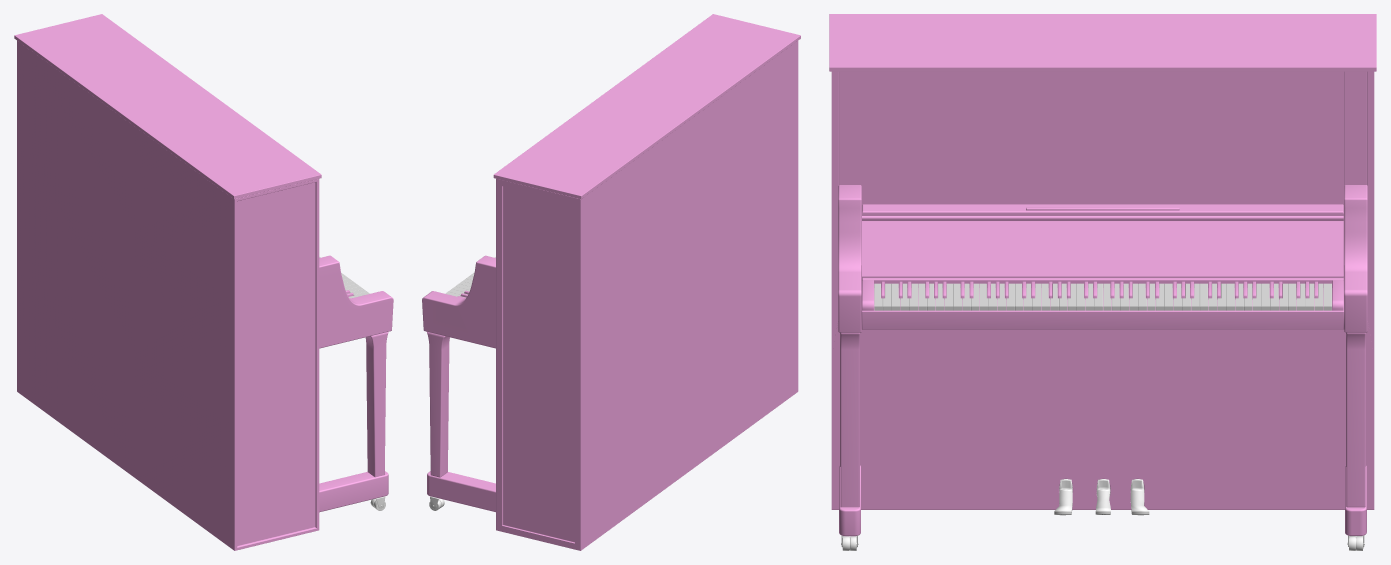
File: piano.glb
The picture shows the model from 3 angles, left to right: view 1: azimuth 30°, elevation 25°; view 2: azimuth 150°, elevation 25°; view 3: azimuth 270°, elevation 25°; orthographic projection. The views are drawn at different scales.
Visible parts, largest first — view 1: Cube.018, Cube.010, Cube.011, Cube.012; view 2: Cube.018, Cube.001, Cube.002, Cube.003; view 3: Cube.018, Cube.017, Cube.006, Cube.005, Cube.016, Cube.001, Cube.010, Cube.002, Cube.011, Cube.009, Cube.003, Cube.012.
Boxes of the visible parts, bbox=[...] form: Cube.018: bbox=[14, 14, 321, 550]; Cube.010: bbox=[319, 255, 393, 348]; Cube.011: bbox=[365, 331, 388, 477]; Cube.012: bbox=[319, 471, 388, 512]; Cube.018: bbox=[493, 14, 800, 550]; Cube.001: bbox=[422, 255, 495, 348]; Cube.002: bbox=[427, 332, 449, 477]; Cube.003: bbox=[427, 471, 495, 512]; Cube.018: bbox=[829, 14, 1376, 509]; Cube.017: bbox=[862, 216, 1343, 277]; Cube.006: bbox=[874, 283, 1331, 310]; Cube.005: bbox=[861, 265, 1344, 329]; Cube.016: bbox=[862, 204, 1343, 287]; Cube.001: bbox=[1344, 185, 1367, 332]; Cube.010: bbox=[838, 185, 861, 332]; Cube.002: bbox=[1346, 332, 1365, 507]; Cube.011: bbox=[840, 332, 859, 507]; Cube.009: bbox=[881, 281, 1318, 299]; Cube.003: bbox=[1345, 465, 1366, 535]; Cube.012: bbox=[839, 465, 860, 536].
Size of the model in its own units: 0.6466 by 1.34 by 1.5.
